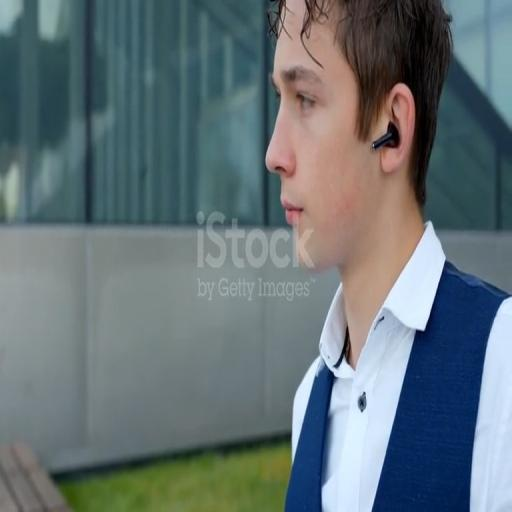earphone: (372, 115, 403, 163)
